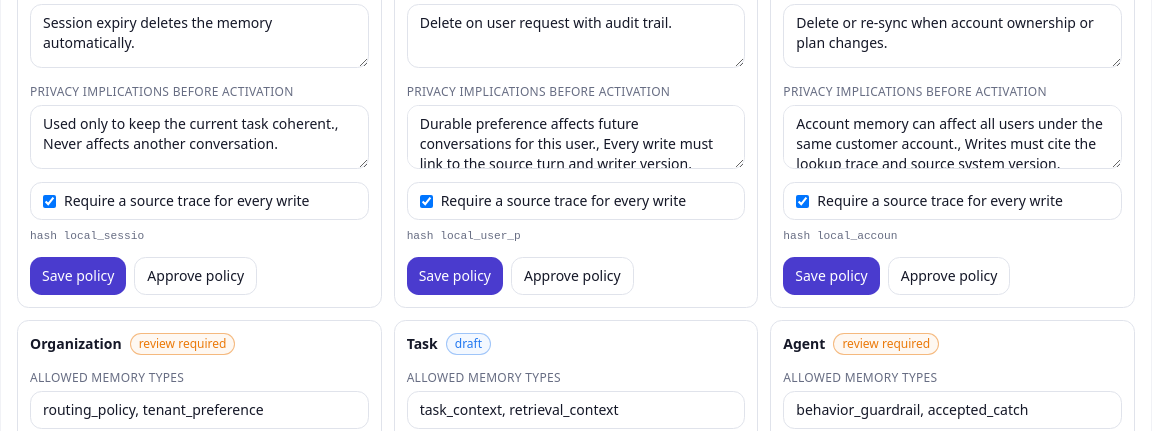
MemoryStudio › requires backend policy approval wiring when no action is provided
(page scrolled)
Click the button with test id "memory-policy-approve-user": (572, 276) [511, 257, 634, 295]
(page scrolled)
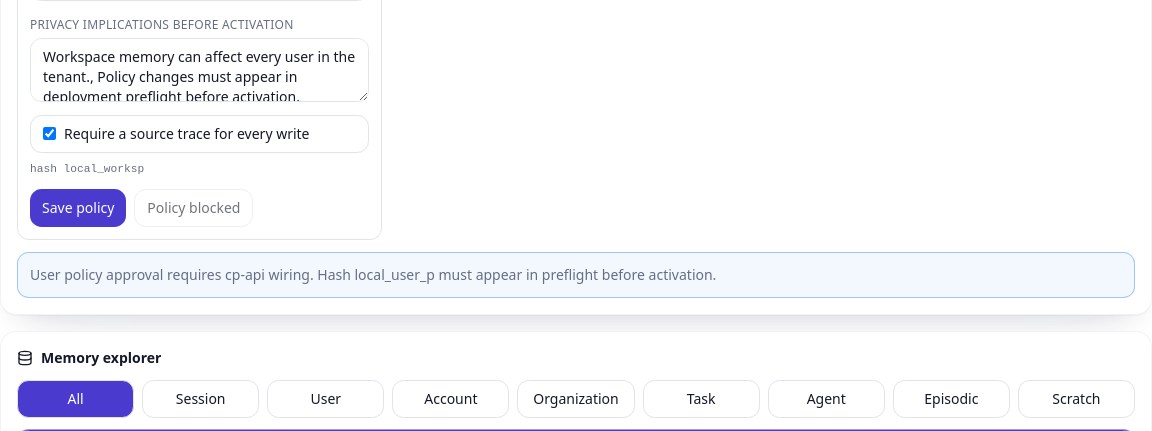
Now the text with test id "memory-policy-notice" shows "User policy approval requires cp-api wiring", box [30, 265, 716, 284]
